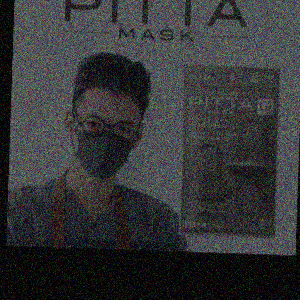with_mask: (73, 111, 140, 179)
